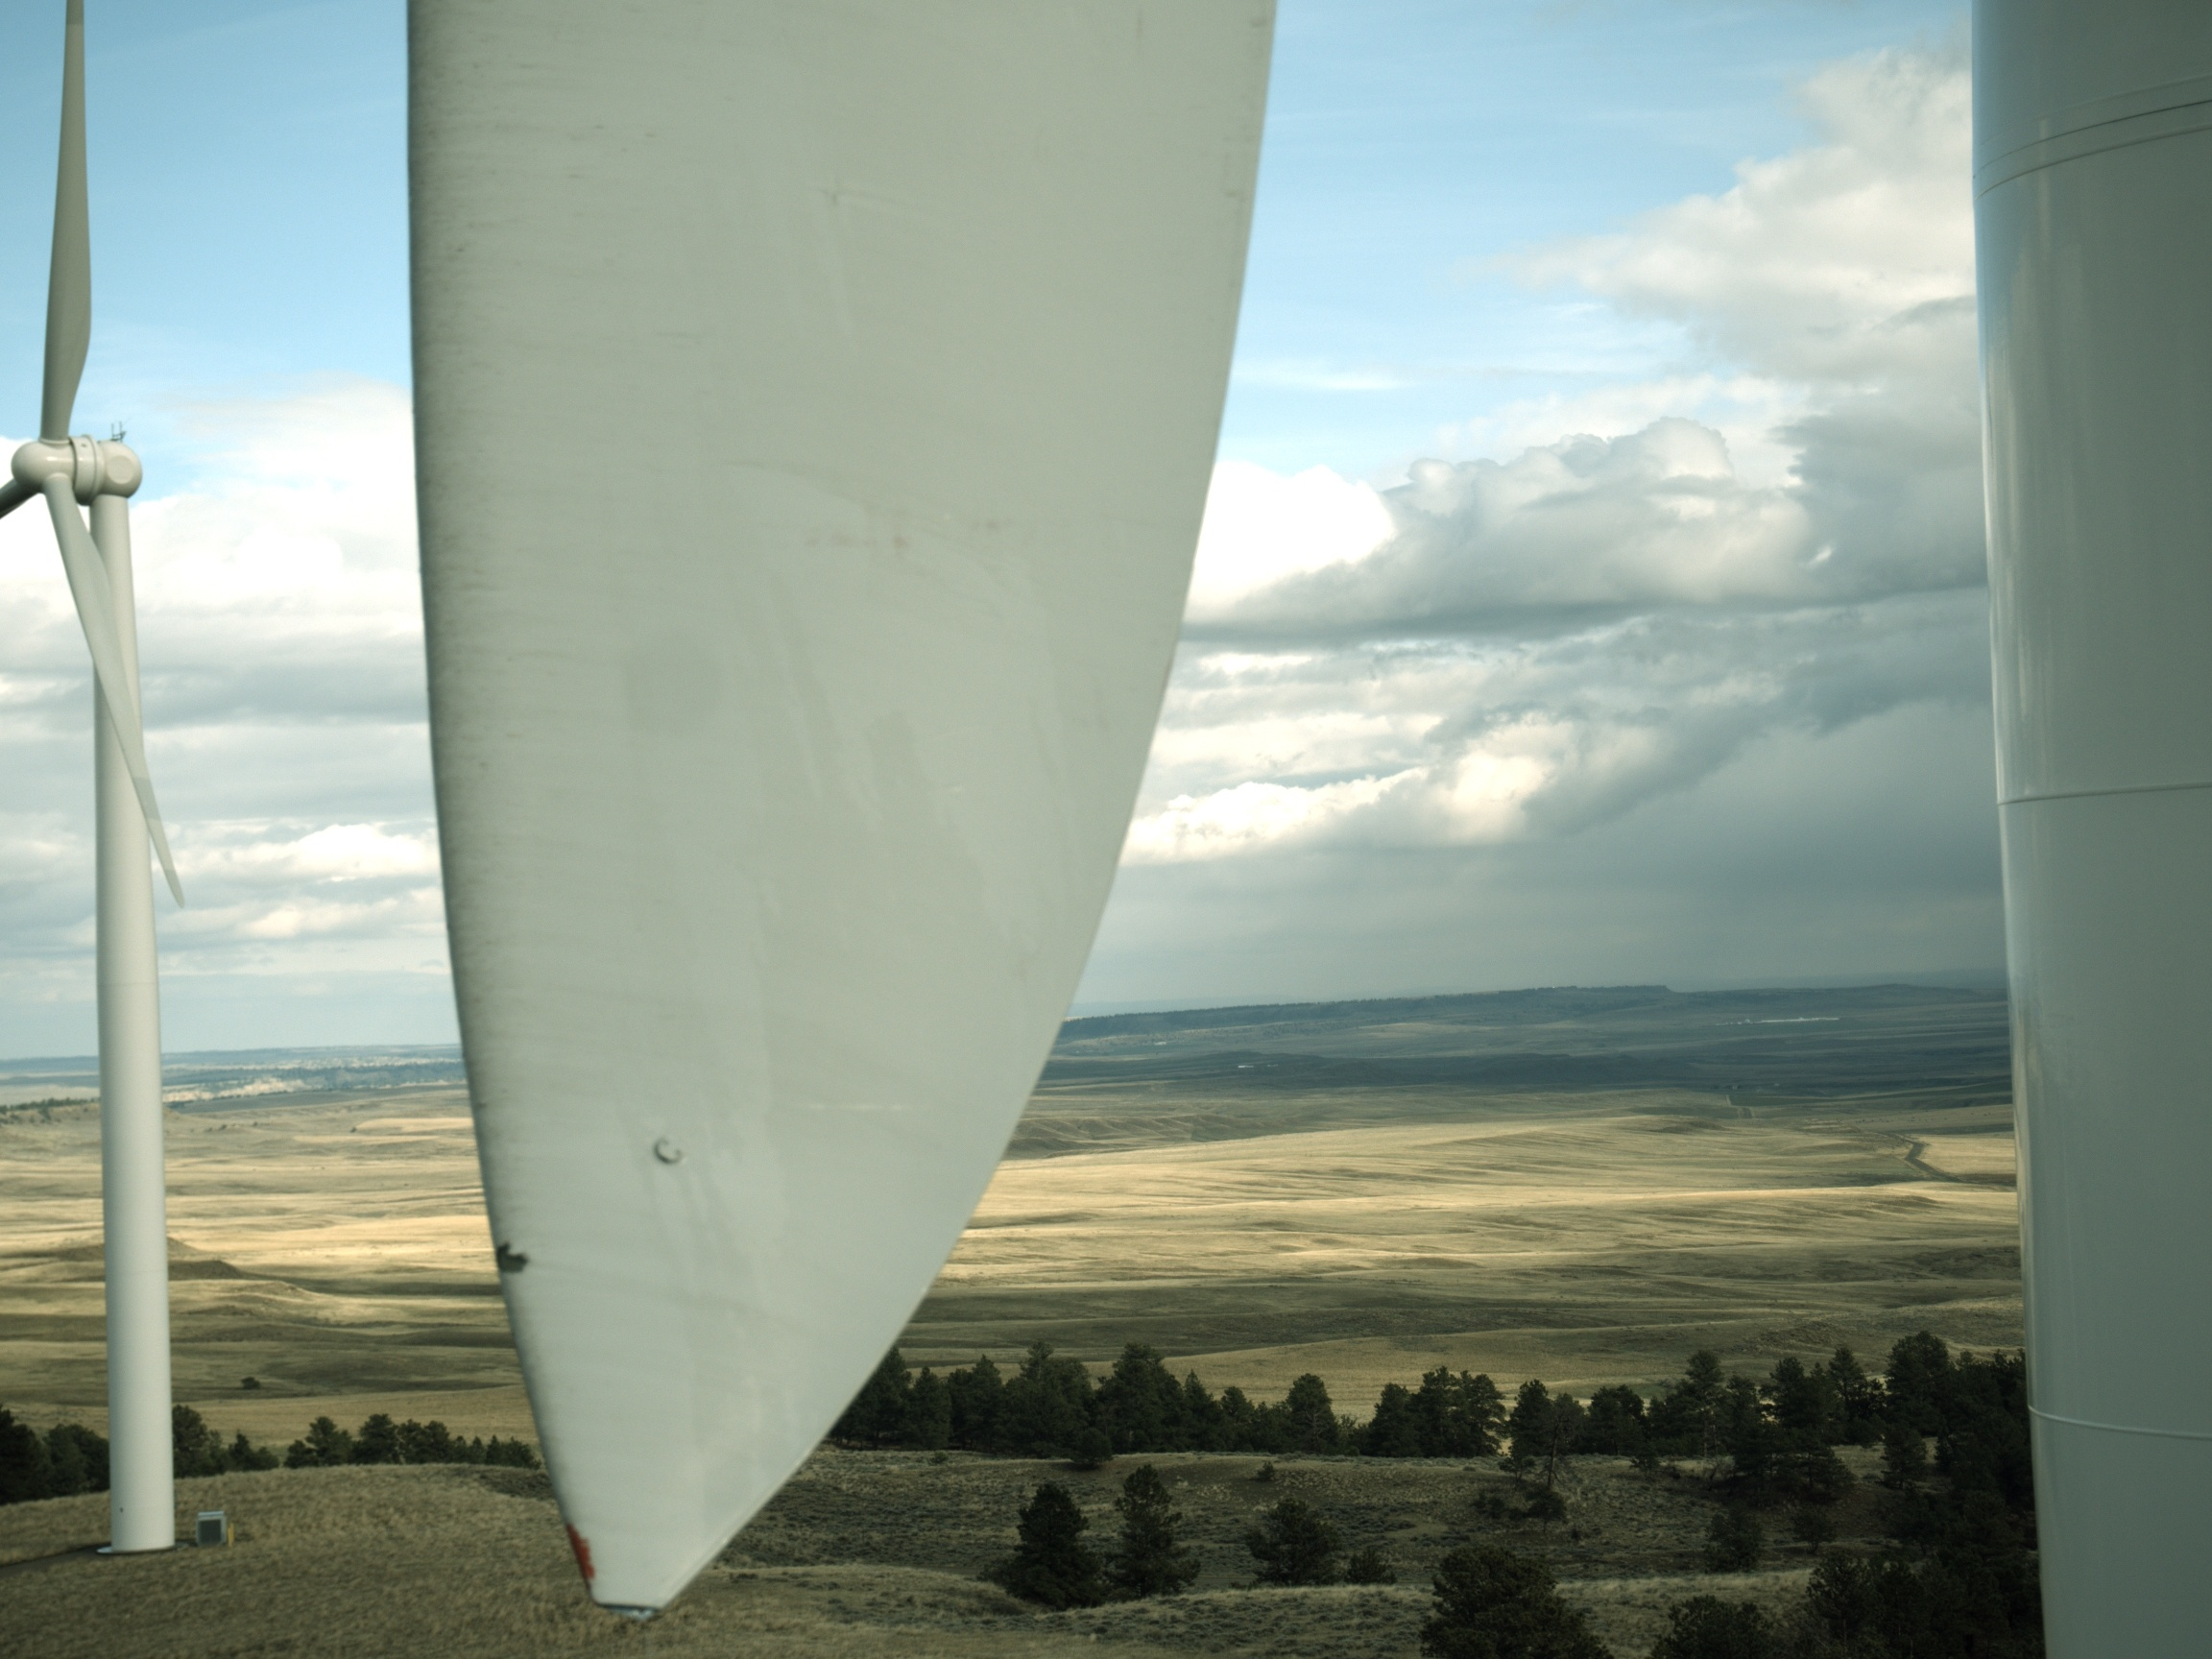chip: (500, 1251, 529, 1276), (495, 1241, 528, 1258), (577, 1535, 592, 1556), (583, 1554, 597, 1575), (564, 1520, 589, 1530), (571, 1528, 583, 1540), (587, 1563, 592, 1588)
